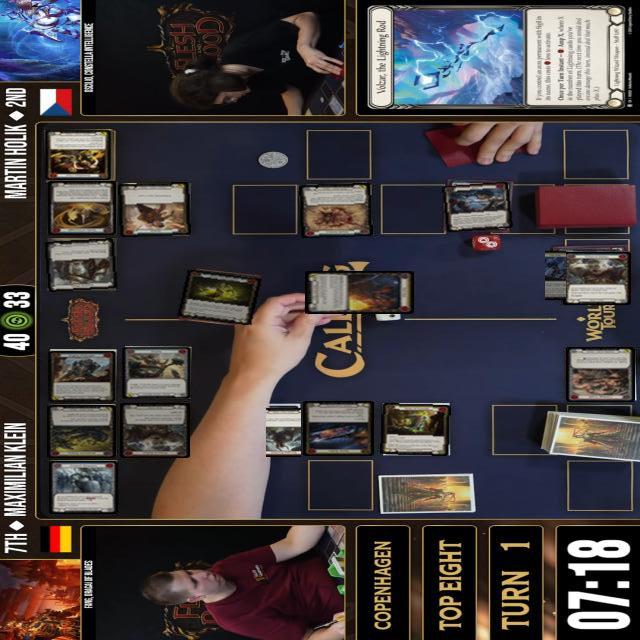Barraging_Brawnhide_WTR176: (267, 403, 302, 456)
Breakneck_Battery_WTR012: (48, 404, 117, 458)
Cartilage_Crush_WTR060: (567, 346, 636, 402)
Demolition_Crew_WTR181: (45, 128, 113, 180)
Disable_WTR050: (122, 345, 193, 400)
Flic_Flak_WTR093: (545, 246, 566, 299)
Ironrot_Plate_WTR156: (45, 237, 119, 291)
Pack_Hunt_WTR024: (305, 270, 415, 313)
Potion_of_Strength_WTR171: (177, 268, 263, 326)
Primeval_Bellow_WTR035: (121, 402, 191, 458)
Primeval_Bellow_WTR037: (563, 251, 632, 305)
Raging_Onslaught_WTR190: (48, 349, 118, 402)
Razor_Reflex_WTR210: (303, 401, 375, 456)
Rout_WTR120: (441, 180, 515, 232)
Smash_Instinct_WTR028: (299, 182, 374, 238)
Snatch_WTR169: (119, 181, 192, 237)
Staunch_Response_WTR053: (50, 460, 119, 513)
Stroke_of_Foresight_WTR140: (49, 181, 117, 235)
Tome_of_Fyendal_WTR160: (381, 402, 452, 456)
